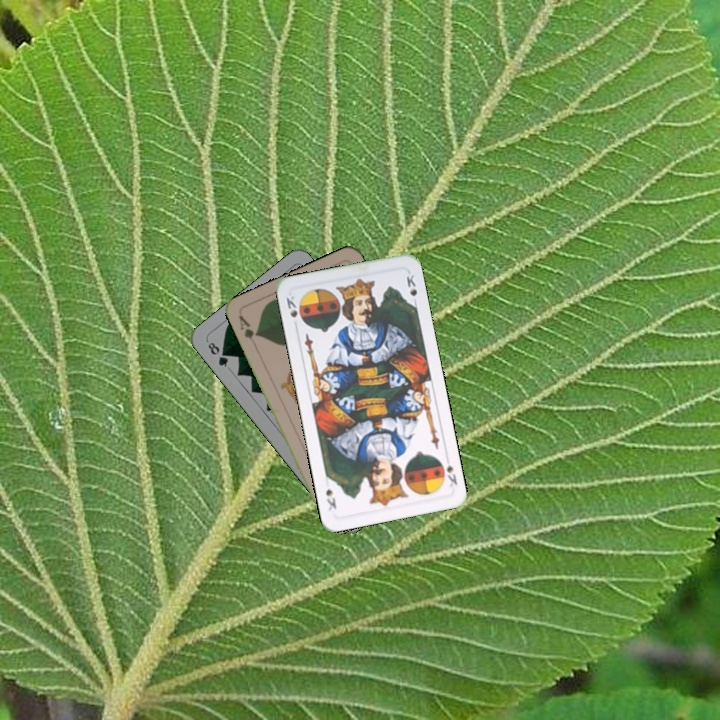G8: (204, 338, 231, 370)
GA: (234, 311, 261, 342)
SK: (435, 455, 460, 489), (282, 292, 300, 320)
